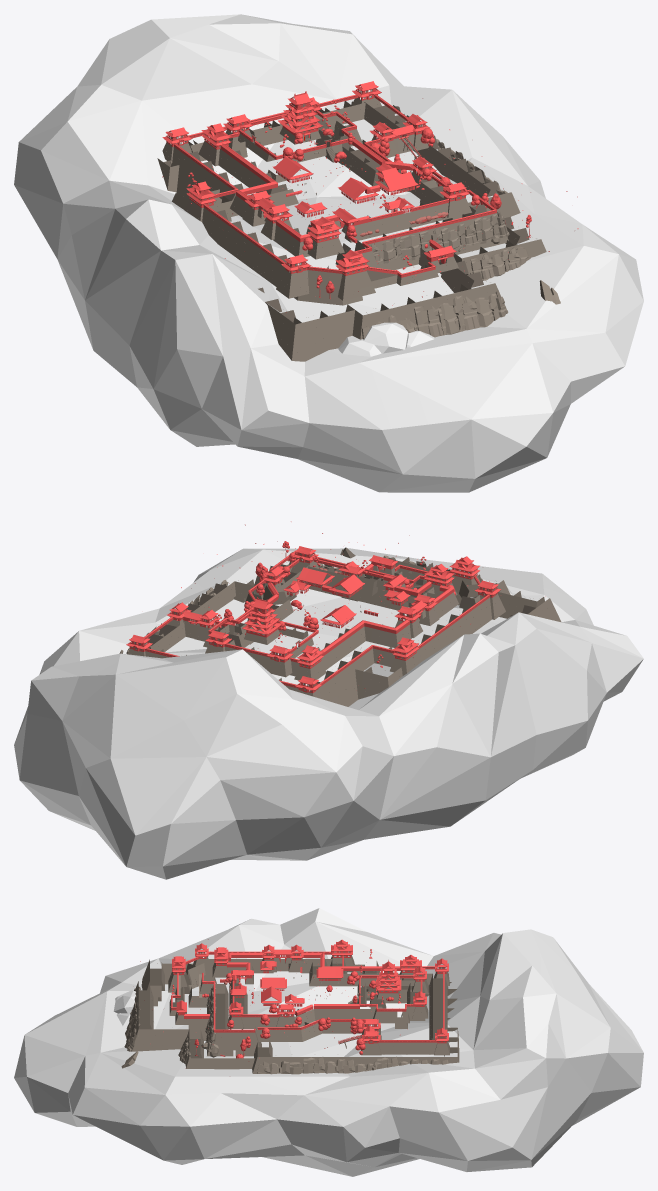
File: Low_Poly_Ultimate_Pack_-_Castle_in_clouds.glb
3 views of the same model, one above another, from view 1: azimuth 30°, elevation 25°; view 2: azimuth 150°, elevation 25°; view 3: azimuth 270°, elevation 25° (orthographic). The views are drawn at different scales.
Visible parts, largest first — view 1: unnamed (×5); view 2: unnamed (×4); view 3: unnamed (×3).
Part boxes in pixels (box(x1,y1,x2,y2)): unnamed (×5): box(14, 14, 643, 492); unnamed (×4): box(14, 548, 643, 879); unnamed (×3): box(14, 908, 643, 1176).
Bounding box in the file's own units: 354 × 200 × 548.
